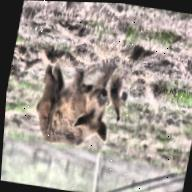boar: (28, 54, 121, 152)
